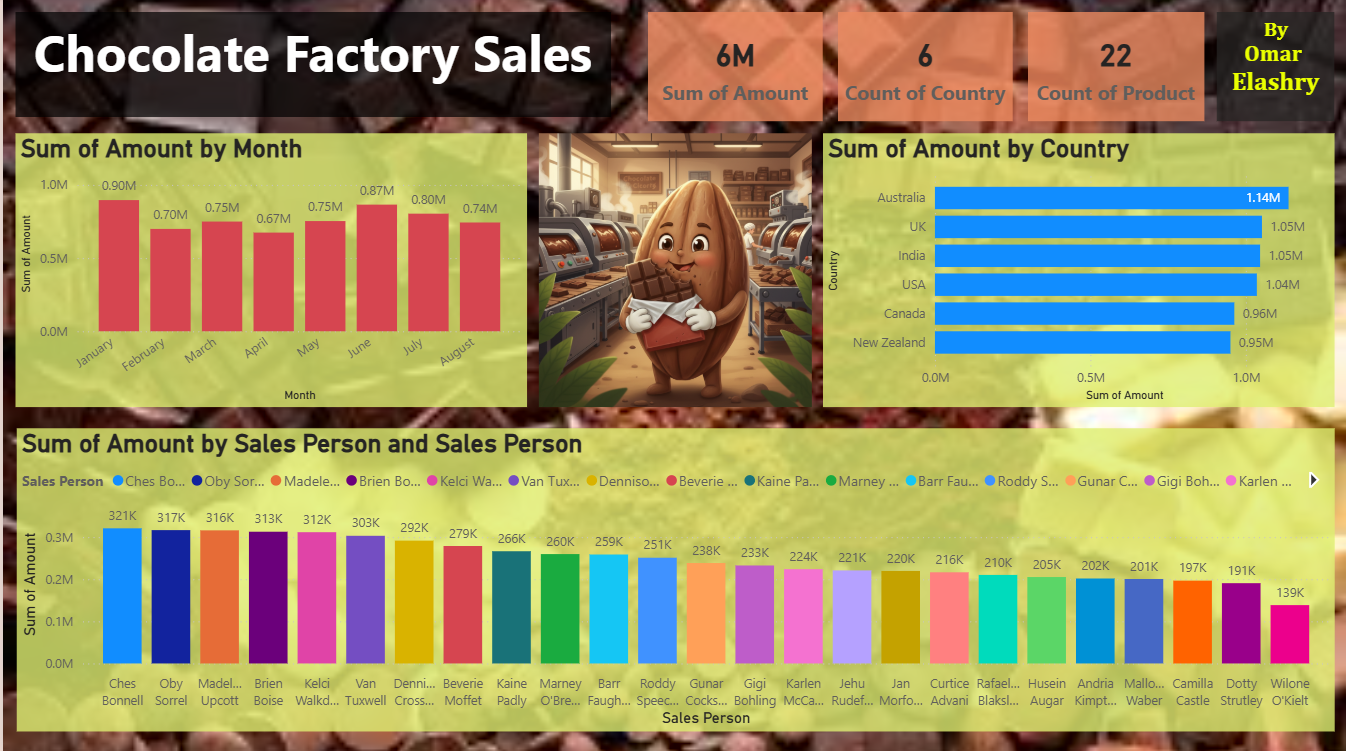

Layout of this report page (visuals, bound fields, positions):
{"tool":"powerbi","page":{"name":"Page 1","canvas":[1280,720],"ordinal":0},"visuals":[{"type":"columnChart","fields":{"Category":["Choco Data 2022 (2).Sales Person"],"Y":["Sum(Choco Data 2022 (2).Amount)"],"Series":["Choco Data 2022 (2).Sales Person"]},"box":[12.7,411.3,1254.9,288.7],"z":0},{"type":"barChart","fields":{"Category":["Choco Data 2022 (2).Country"],"Y":["Sum(Choco Data 2022 (2).Amount)"]},"box":[780.6,130.3,487.4,260.6],"z":1000},{"type":"textbox","box":[12.1,14.5,567,100.1],"z":2000},{"type":"card","fields":{"Values":["Sum(Choco Data 2022 (2).Amount)"]},"box":[614.1,14.5,166.5,103.8],"z":3000},{"type":"card","fields":{"Values":["Count(Choco Data 2022 (2).Country)"]},"box":[795,14.5,166.5,103.8],"z":4000},{"type":"card","fields":{"Values":["Count(Choco Data 2022 (2).Product)"]},"box":[976,14.5,167.7,103.8],"z":5000},{"type":"textbox","box":[1155.8,14.5,112.2,103.8],"z":6000},{"type":"clusteredColumnChart","title":"Sum of Amount by Month","fields":{"Y":["Sum(Choco Data 2022 (2).Amount)"],"Category":["Choco Data 2022 (2).Date.Variation.Date Hierarchy.Month"]},"box":[12.1,130.3,487.4,260.6],"z":7000},{"type":"image","box":[509.1,130.3,261.8,260.6],"z":8000}]}

Visuals, with their boxes in screenshot pixels (x1, y1, x2, y2), scaled from the page's 1280x720 canvas onto the 1346x751 screenshot:
columnChart - Choco Data 2022 (2).Sales Person x Sum(Choco Data 2022 (2).Amount): [x1=13, y1=429, x2=1333, y2=730]
barChart - Choco Data 2022 (2).Country x Sum(Choco Data 2022 (2).Amount): [x1=821, y1=136, x2=1333, y2=408]
textbox: [x1=13, y1=15, x2=609, y2=120]
card - Sum(Choco Data 2022 (2).Amount): [x1=646, y1=15, x2=821, y2=123]
card - Count(Choco Data 2022 (2).Country): [x1=836, y1=15, x2=1011, y2=123]
card - Count(Choco Data 2022 (2).Product): [x1=1026, y1=15, x2=1203, y2=123]
textbox: [x1=1215, y1=15, x2=1333, y2=123]
"Sum of Amount by Month" clusteredColumnChart: [x1=13, y1=136, x2=525, y2=408]
image: [x1=535, y1=136, x2=811, y2=408]
